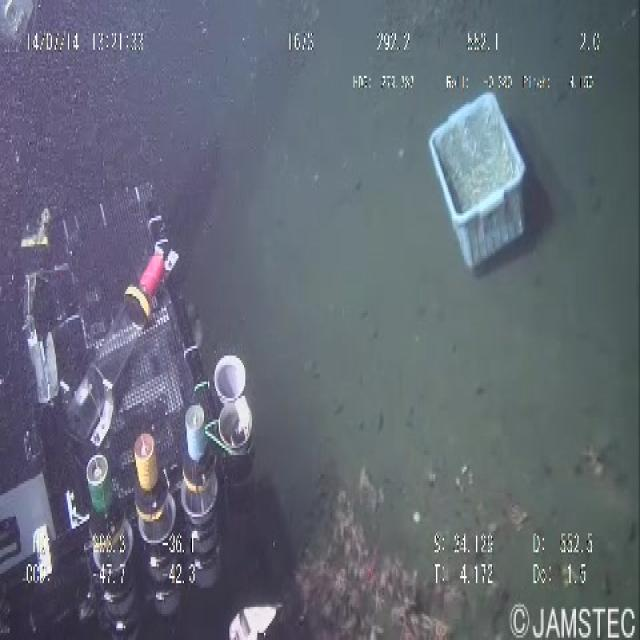plastic: (406, 62, 546, 275)
